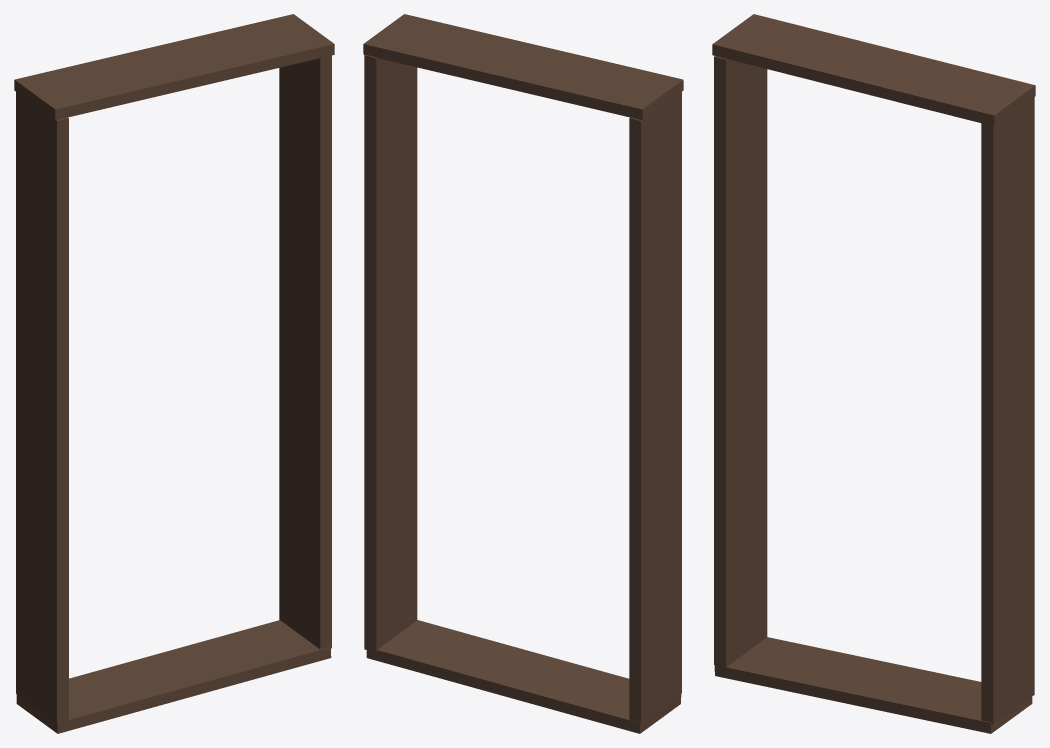
File: gardenBox.obj
3 renders of one model, left to right at view 1: azimuth 30°, elevation 25°; view 2: azimuth 150°, elevation 25°; view 3: azimuth 330°, elevation 25°, orthographic.
Parts seen in each view (by area): view 1: Cube; view 2: Cube; view 3: Cube.
Boxes of the visible parts, x1,y1,x2,y2 form: Cube: (14, 14, 334, 733); Cube: (363, 14, 683, 733); Cube: (712, 14, 1035, 733).
Size of the model in its own units: 7.87 by 16.83 by 2.04.
